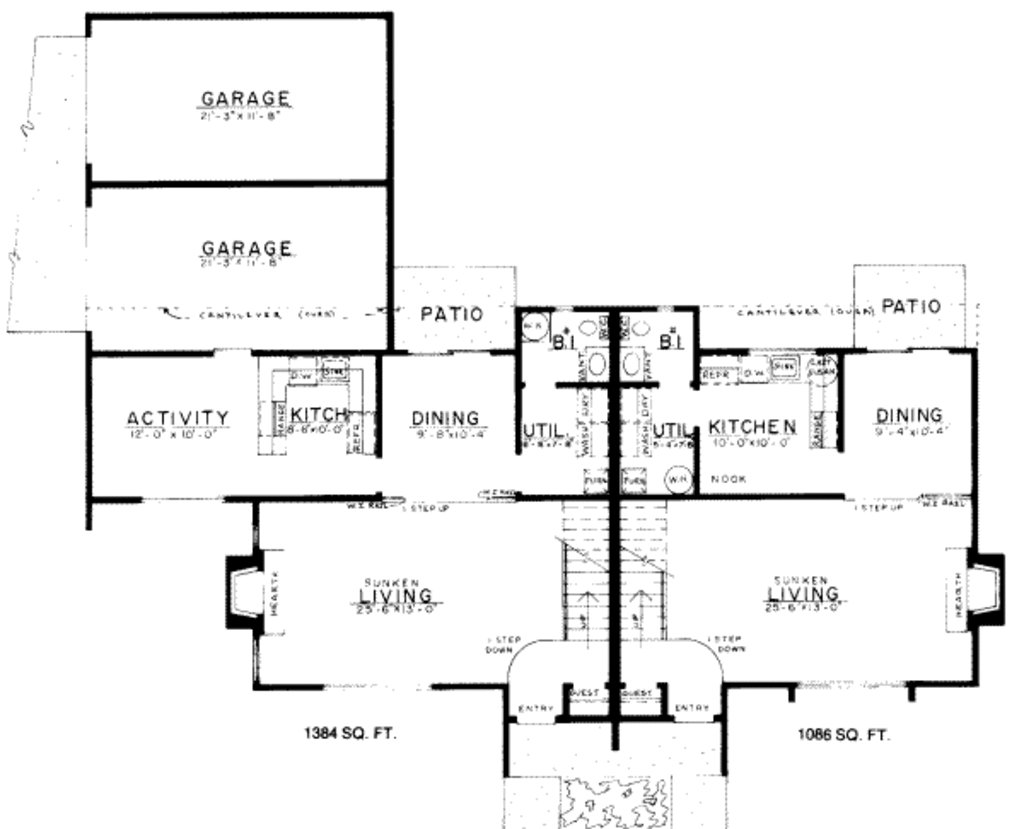large_sink: (576, 314, 617, 341), (625, 316, 656, 343)
small_sink: (618, 344, 649, 384), (581, 346, 609, 387)
stairs: (553, 498, 613, 648), (614, 505, 672, 647)
window: (795, 679, 913, 692), (139, 493, 223, 510), (321, 684, 435, 692), (406, 348, 443, 359)
